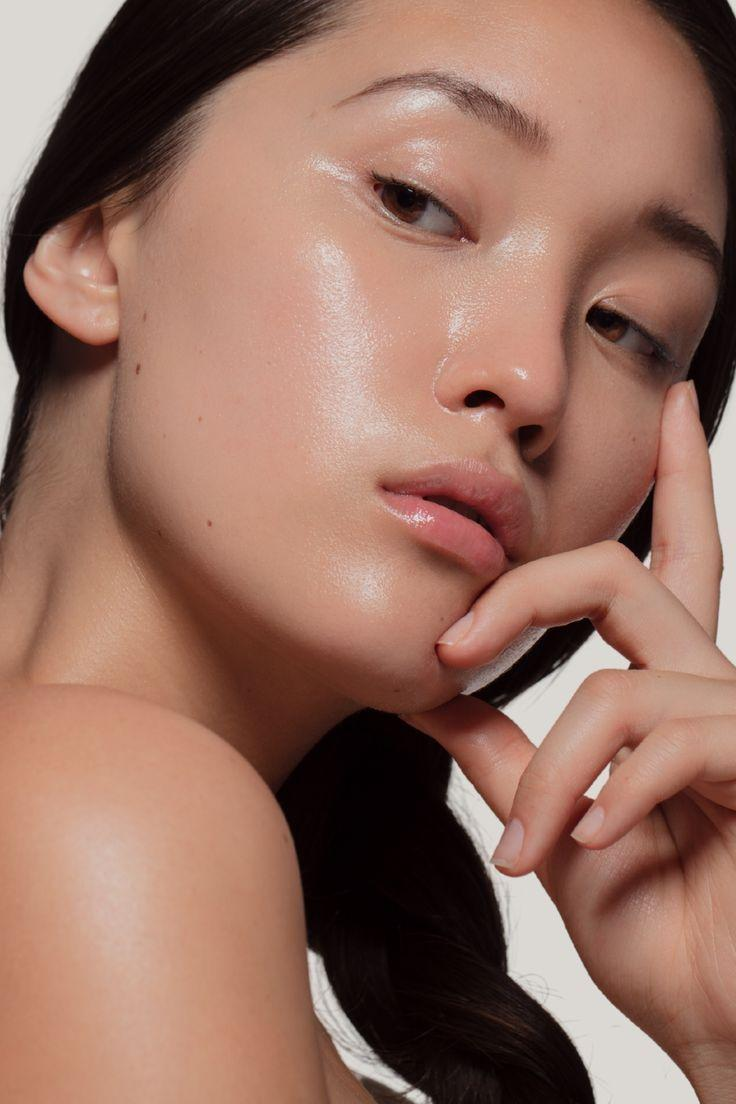Oily-Skin: (211, 194, 428, 477), (331, 524, 497, 664), (351, 101, 477, 181)
